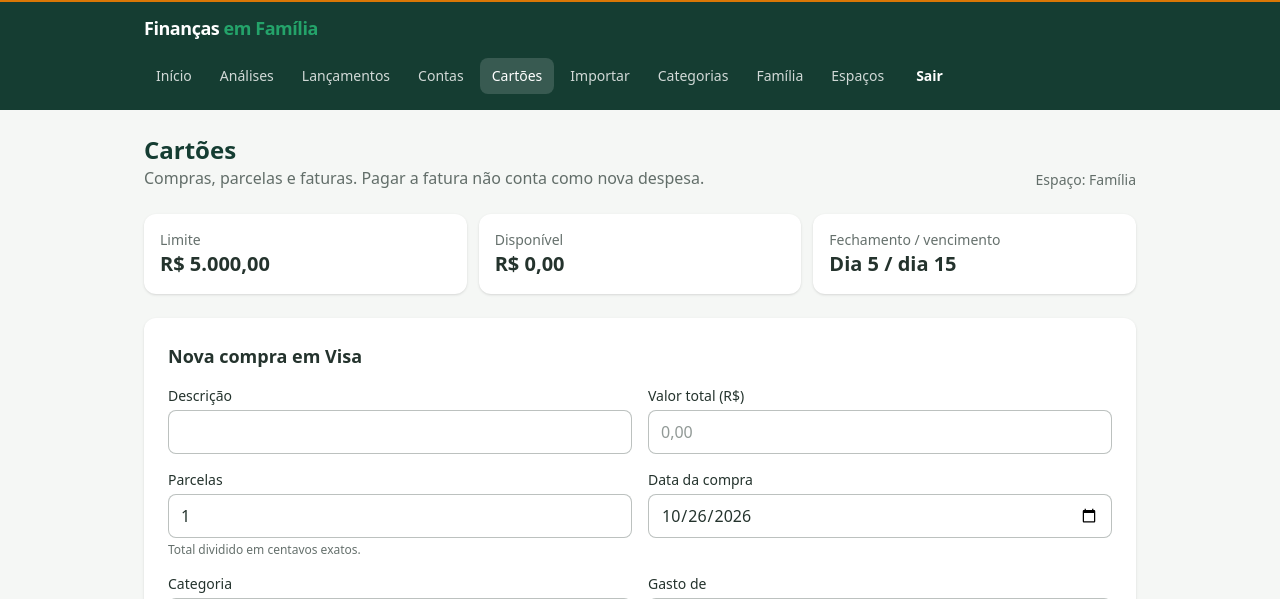
Cartões › recusa mais de 48 parcelas
The image size is (1280, 599).
Type "X" into the field labelled "Descrição" at (400,432), box [168,410,632,454]
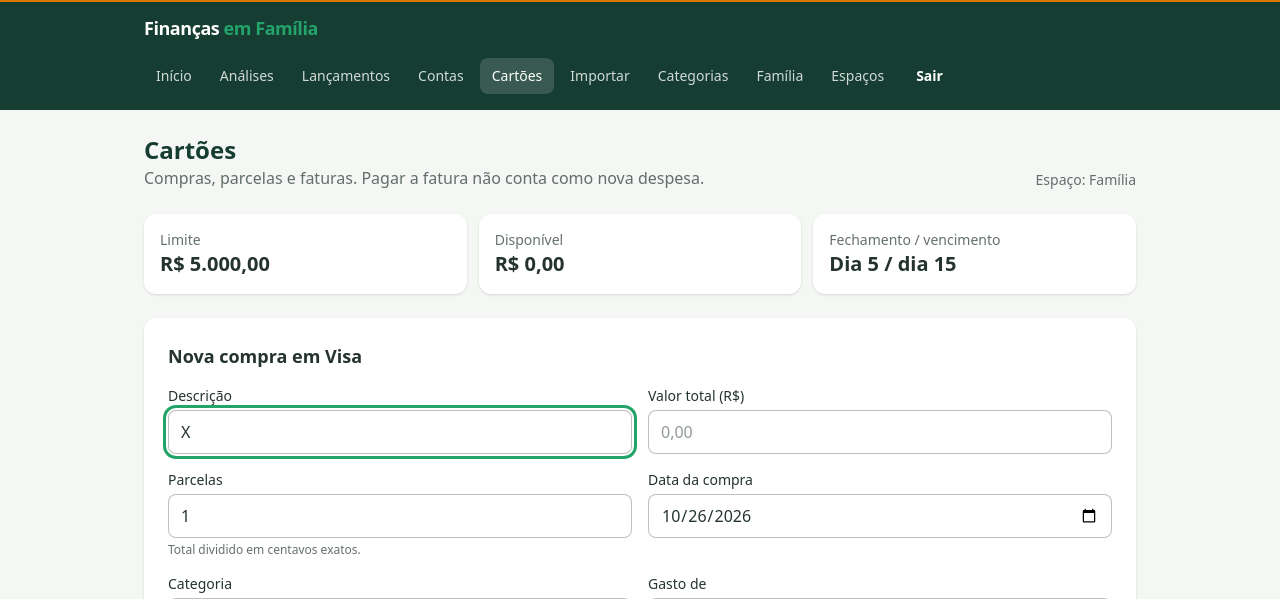
Type "10" into the field labelled "Valor total (R$)" at (880,432), box [648,410,1112,454]
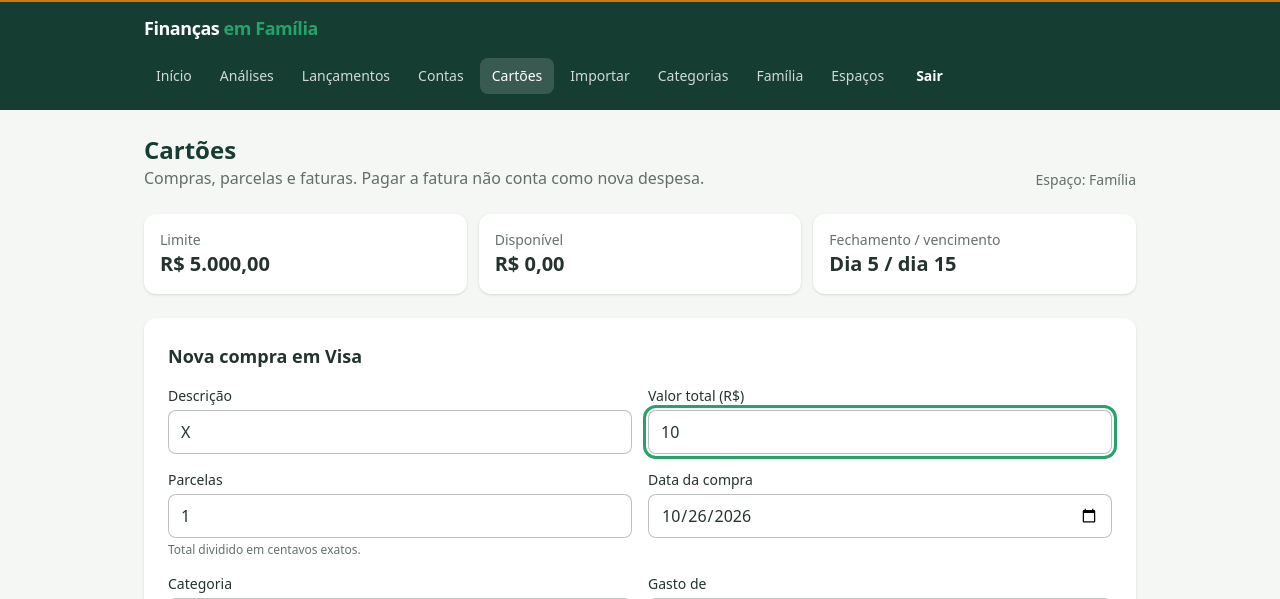
Replace the text in the number field labelled "Parcelas" with "49" at (400,516), box [168,494,632,538]
(page scrolled)
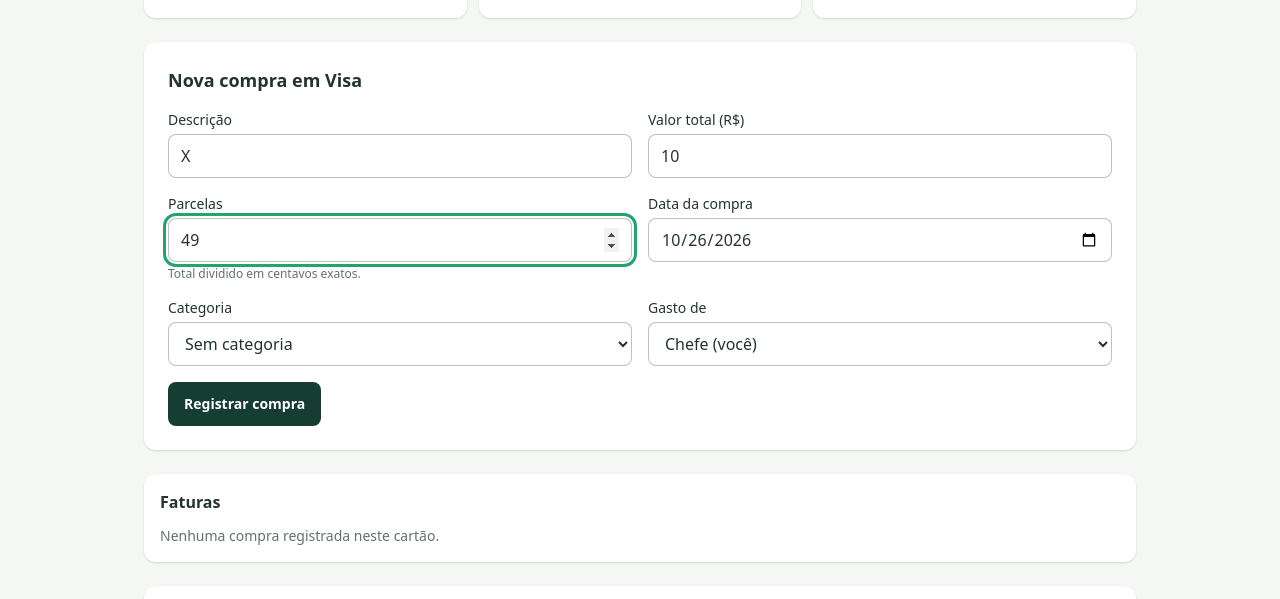
Click the button "Registrar compra" at (245,404), box [168,382,321,426]
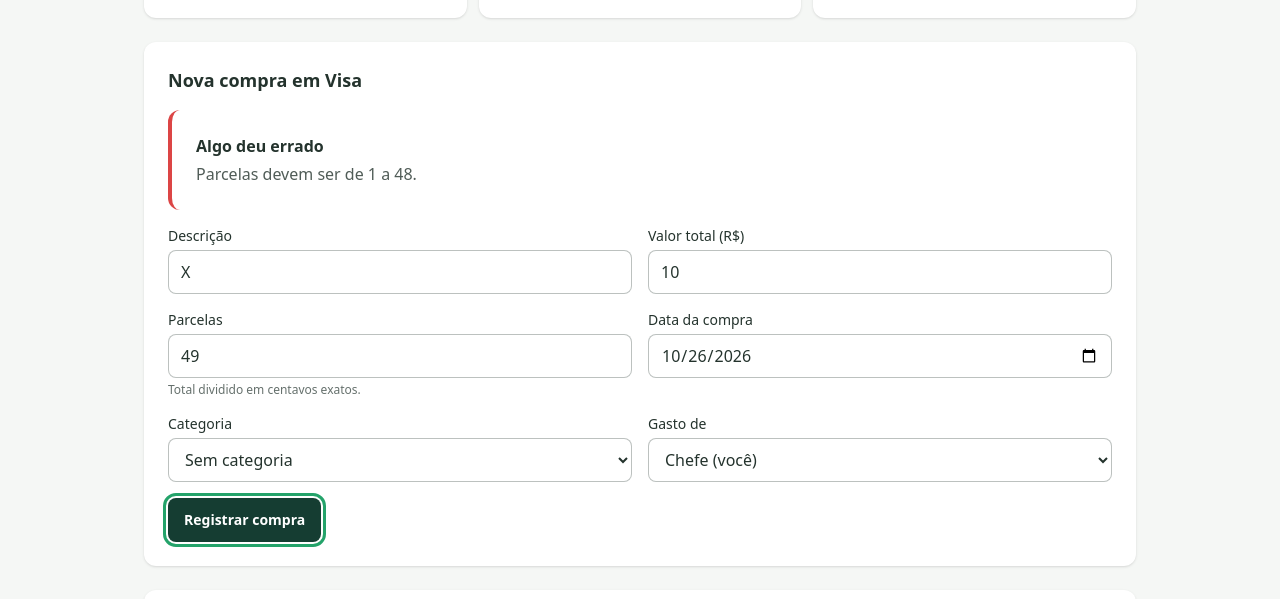
Now the message shows "Parcelas devem ser de 1 a 48.", box [196,163,417,185]
